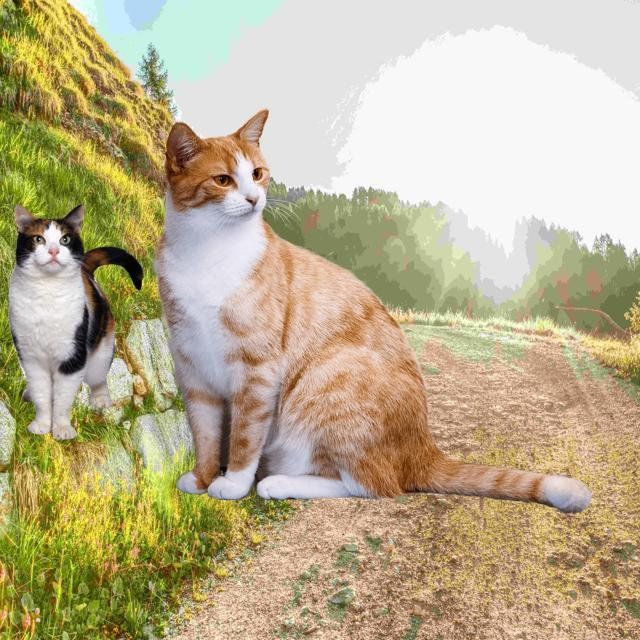cat: (151, 106, 594, 514), (9, 205, 143, 438)
